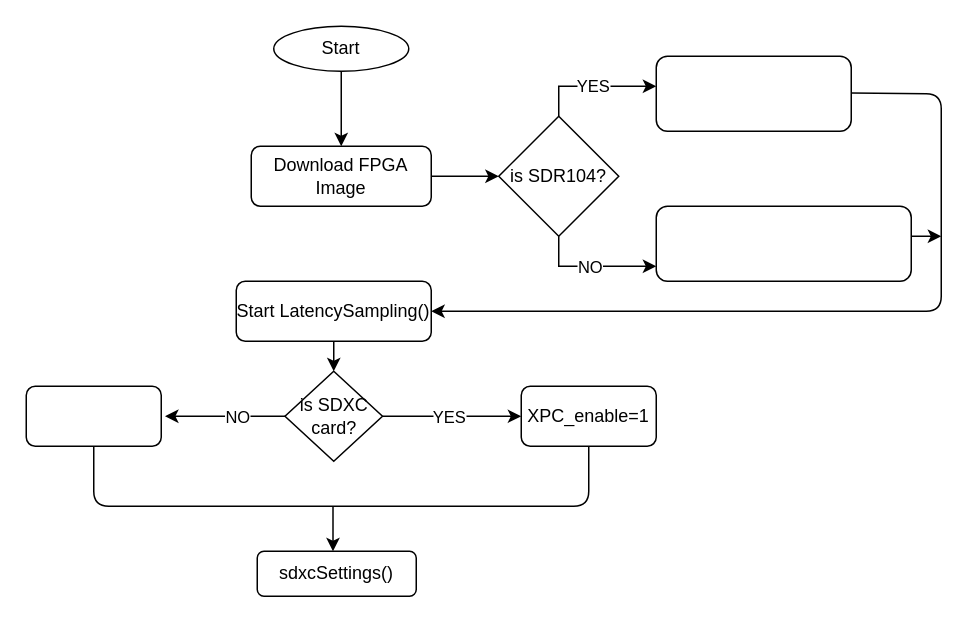
The diagram is 980 pixels wide and 623 high, and some of its shapes have lost their labels. The shapes that lost their labels are listed below. From the top down, each one's box as (x1, y1, x2, y2) in pixels, then its label:
(655, 55, 851, 131): Download FPGA\SD-SDR2_2-01-01-0061.bin
(655, 205, 911, 281): Download FPGA\SD_LEGACY-SDR2_2-01-00-0001.bin
(25, 385, 161, 446): XPC_enable=0
